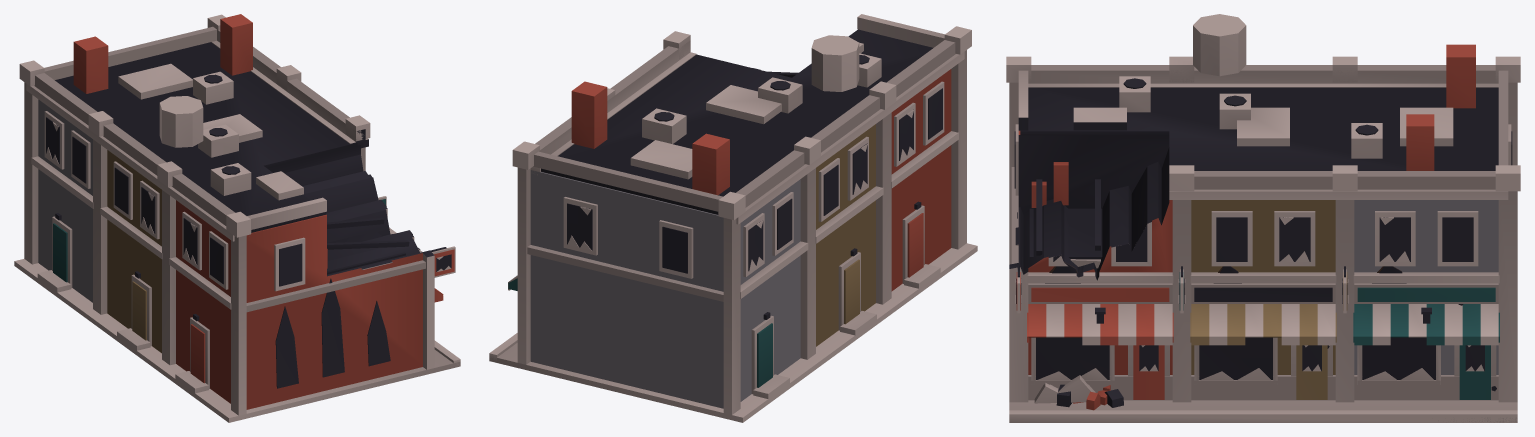
The picture shows the model from 3 angles, left to right: view 1: azimuth 30°, elevation 25°; view 2: azimuth 150°, elevation 25°; view 3: azimuth 270°, elevation 25°; orthographic projection. The views are drawn at different scales.
Visible parts, largest first — view 1: body_pal_sidewalk.001, body_pal_uiDark, body_pal_brick.017, body_pal_khakiSeam, body_pal_pantsLight, body_pal_tealDark; view 2: body_pal_sidewalk.001, body_pal_pantsLight, body_pal_uiDark, body_pal_brick.017, body_pal_khakiSeam, body_pal_tealDark; view 3: body_pal_sidewalk.001, body_pal_uiDark, body_pal_brick.017, body_pal_khakiSeam, body_pal_pantsLight, body_pal_tealDark.
Boxes of the visible parts, bbox=[...] form: body_pal_sidewalk.001: bbox=[14, 14, 460, 422]; body_pal_uiDark: bbox=[46, 42, 451, 388]; body_pal_brick.017: bbox=[73, 14, 454, 409]; body_pal_khakiSeam: bbox=[107, 150, 161, 353]; body_pal_pantsLight: bbox=[38, 99, 92, 302]; body_pal_tealDark: bbox=[53, 199, 385, 282]; body_pal_sidewalk.001: bbox=[489, 14, 977, 422]; body_pal_pantsLight: bbox=[530, 170, 800, 408]; body_pal_uiDark: bbox=[541, 29, 942, 319]; body_pal_brick.017: bbox=[571, 69, 951, 291]; body_pal_khakiSeam: bbox=[816, 124, 875, 346]; body_pal_tealDark: bbox=[508, 278, 772, 387]; body_pal_sidewalk.001: bbox=[1006, 14, 1520, 422]; body_pal_uiDark: bbox=[1009, 78, 1512, 407]; body_pal_brick.017: bbox=[1016, 44, 1475, 410]; body_pal_khakiSeam: bbox=[1190, 200, 1347, 399]; body_pal_pantsLight: bbox=[1354, 200, 1498, 374]; body_pal_tealDark: bbox=[1179, 272, 1499, 399].
Size of the model in its own units: 10.1 by 10.12 by 16.4.
